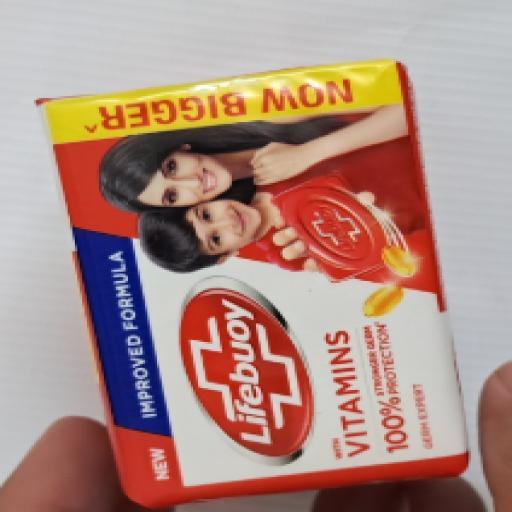lifebuoy: (43, 59, 466, 505), (41, 59, 464, 505)
